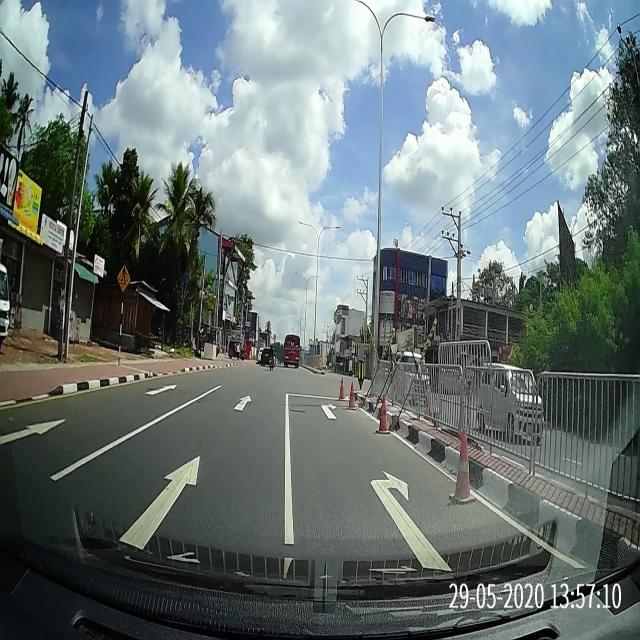forward: (43, 413, 294, 565)
